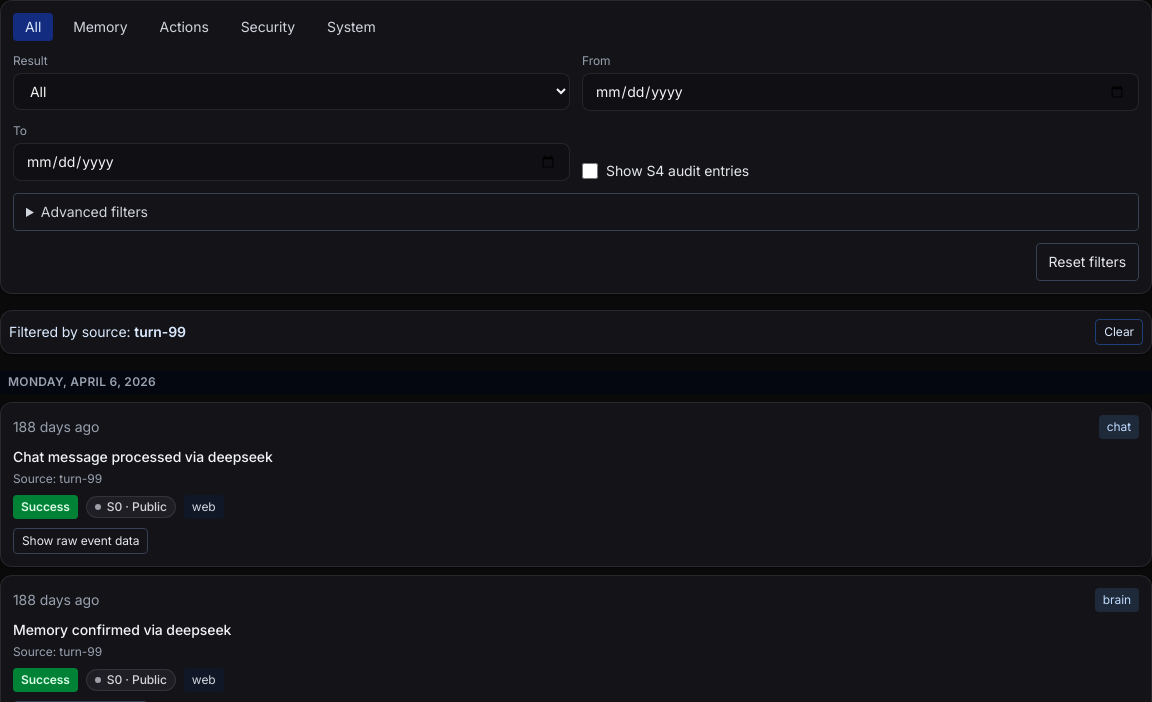
AuditFeed › applies a source_ref filter from the URL with a clearable chip
The width and height of the screenshot is (1152, 702).
Expected: the text "Filtered by source: turn-99" is shown, [9,322,186,342]
Expected: the text "turn-99" is shown, [134,323,186,340]
Click the button "Clear": (1119, 332) [1095,319,1143,345]
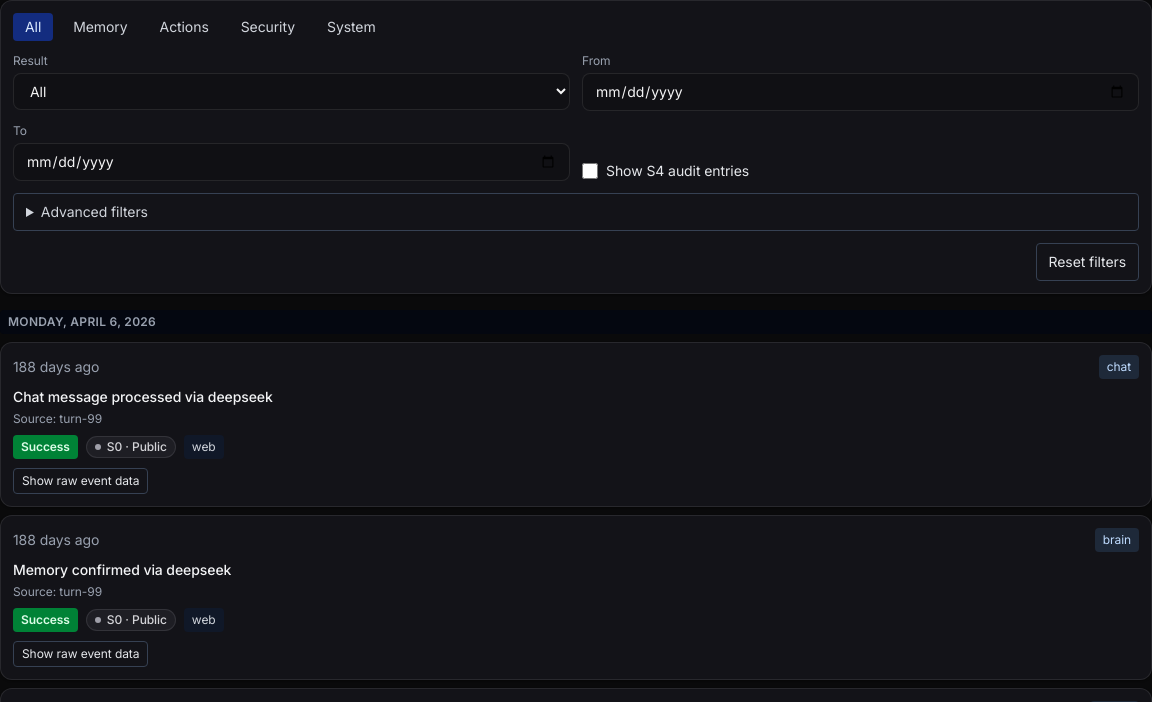
Result: the text "Filtered by source:" is gone
